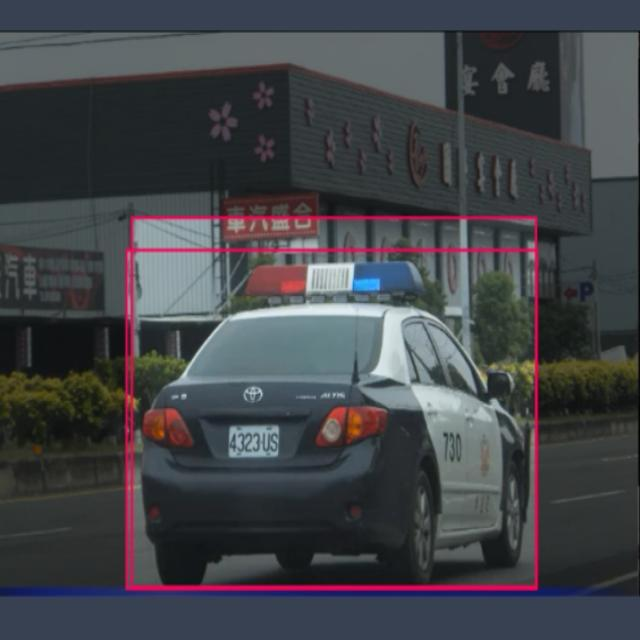police_car: (139, 254, 534, 584)
